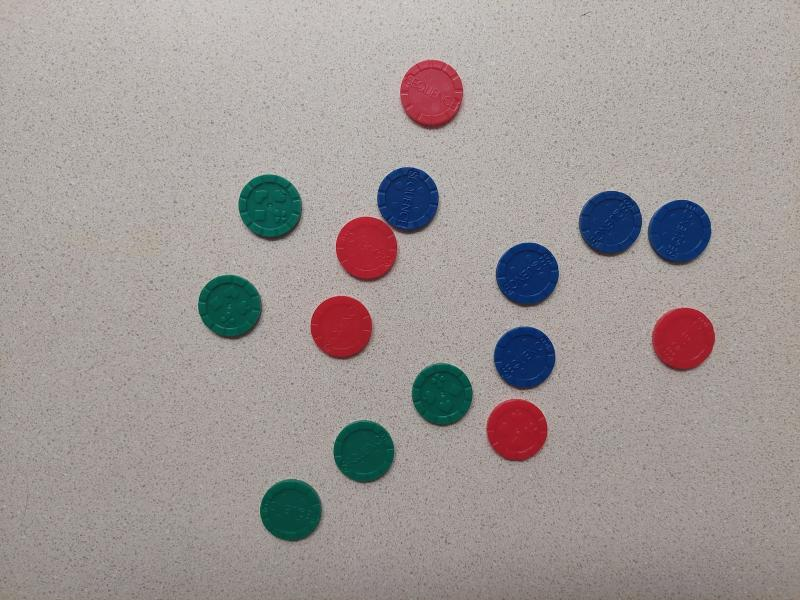Blue_Token: (492, 238, 565, 310), (575, 184, 644, 260), (374, 164, 446, 236), (644, 197, 718, 267), (490, 323, 560, 394)
Green_Token: (235, 170, 310, 243), (193, 270, 269, 342), (255, 474, 326, 545), (407, 358, 477, 428), (329, 417, 398, 486)
Red_Token: (397, 56, 469, 130), (332, 211, 404, 283), (306, 293, 376, 362), (649, 305, 720, 372), (484, 397, 553, 463)
